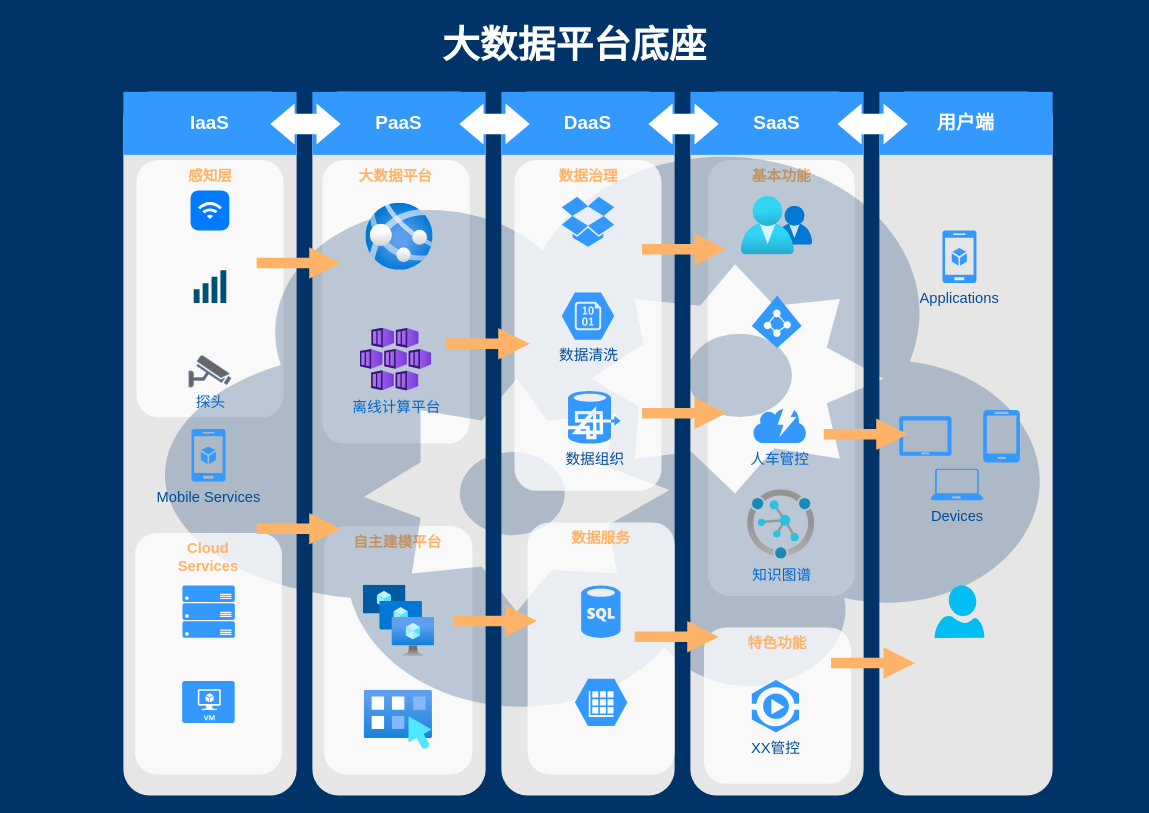
This 1149x813 diagram has some shape labels left out. The shapes that lost their labels are listed below. From the top down, each one's centre as x and y in pixels, then its label:
pixel 209 210: WiFi
pixel 587 221: 数据接入
pixel 776 225: 全息档案
pixel 399 236: 实时计算平台
pixel 209 286: 卡码
pixel 776 321: 多模数据关联
pixel 208 611: Servers
pixel 600 611: Database
pixel 959 611: User
pixel 208 701: Virtual Machine
pixel 600 702: Tables
